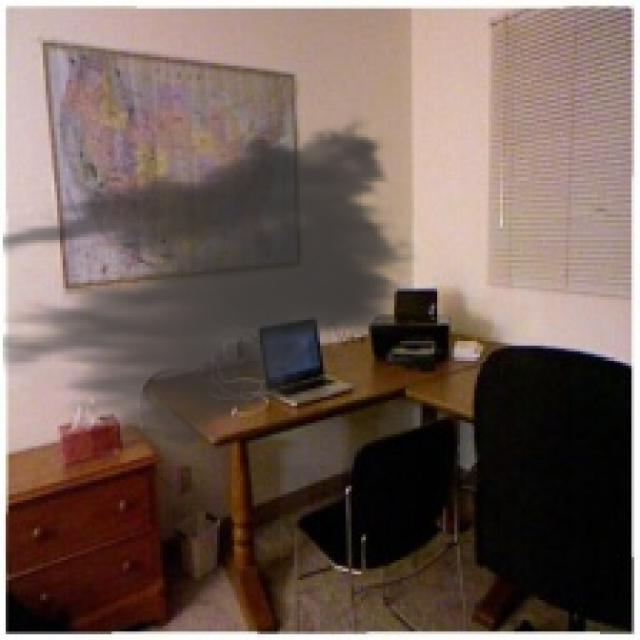Smoke: (3, 112, 423, 457)
